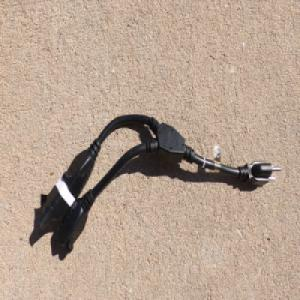Wire: (37, 112, 282, 255)
